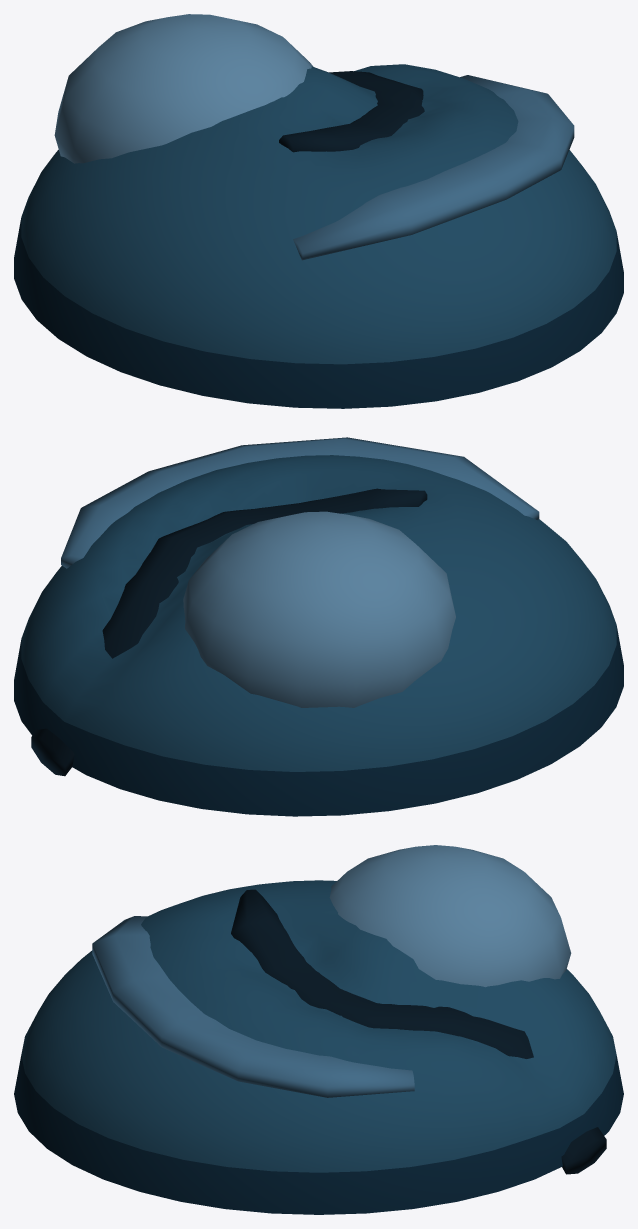
File: newshn-15.glb
The picture shows the model from 3 angles, top to bottom: view 1: azimuth 30°, elevation 25°; view 2: azimuth 150°, elevation 25°; view 3: azimuth 270°, elevation 25°; orthographic projection. The views are drawn at different scales.
Visible parts, largest first — view 1: newshn-15; view 2: newshn-15; view 3: newshn-15.
Part boxes in pixels (x1,y1,x2,y2): newshn-15: [14, 14, 623, 408]; newshn-15: [14, 437, 623, 816]; newshn-15: [14, 845, 623, 1214].
Size of the model in its own units: 1.27 by 0.5357 by 1.35.
